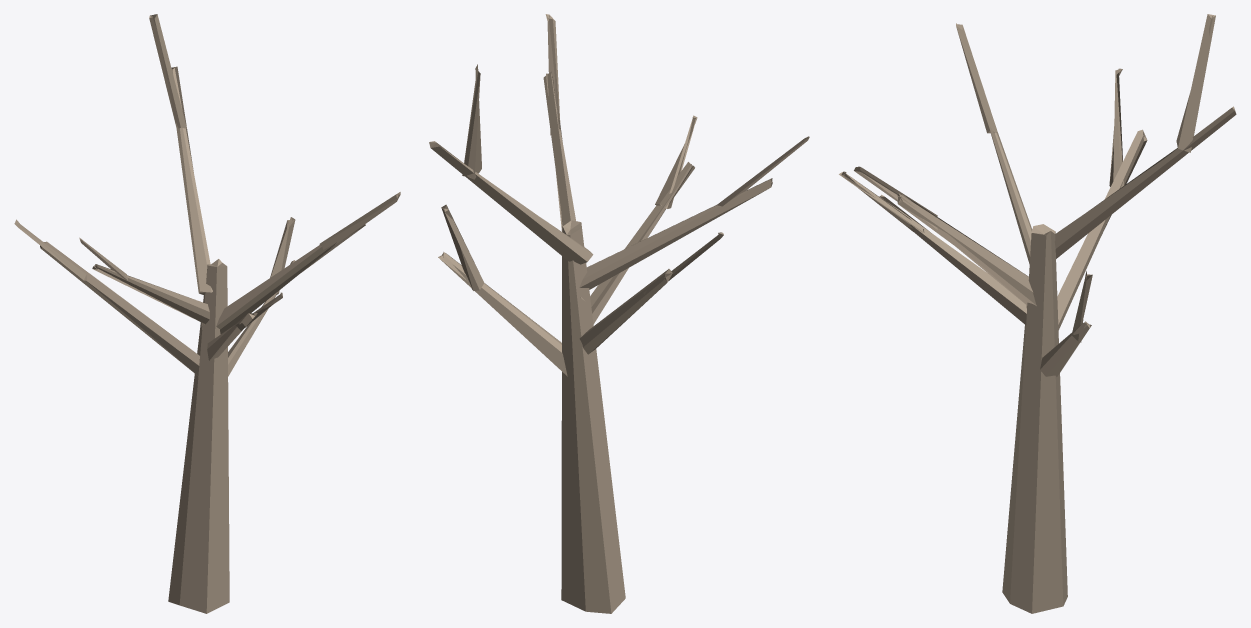
File: SM_Tree_F.fbx
3 views of the same model, side by side, from view 1: azimuth 30°, elevation 25°; view 2: azimuth 150°, elevation 25°; view 3: azimuth 270°, elevation 25° (orthographic). The views are drawn at different scales.
Parts seen in each view (by area): view 1: SM_Tree_F; view 2: SM_Tree_F; view 3: SM_Tree_F.
Part boxes in pixels (x1=…): SM_Tree_F: x1=14, y1=14, x2=400, y2=613; SM_Tree_F: x1=429, y1=14, x2=809, y2=613; SM_Tree_F: x1=839, y1=14, x2=1236, y2=613.
Size of the model in its own units: 3.18 by 5.74 by 3.43.
